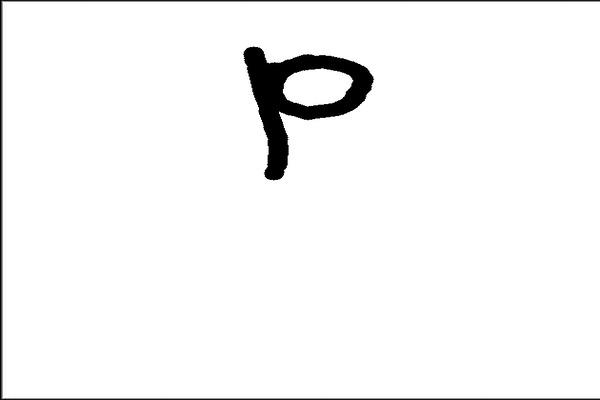P: (238, 29, 382, 200)
